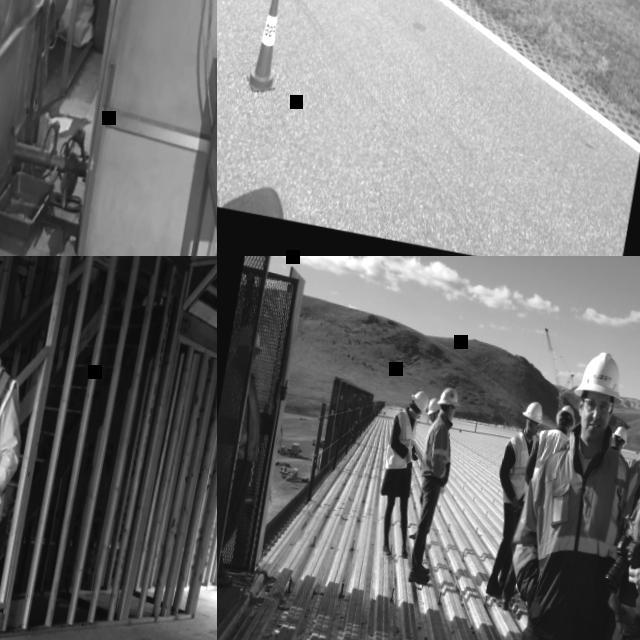helmet: (570, 345, 632, 405), (232, 319, 266, 354), (520, 398, 545, 425), (408, 386, 432, 414), (436, 384, 462, 409), (554, 400, 578, 426), (610, 424, 630, 446), (426, 393, 442, 418)
vest: (494, 413, 639, 640), (598, 410, 640, 631), (217, 363, 275, 467), (0, 354, 29, 529), (416, 408, 458, 488), (498, 427, 538, 504), (526, 424, 570, 479), (384, 408, 419, 472)
